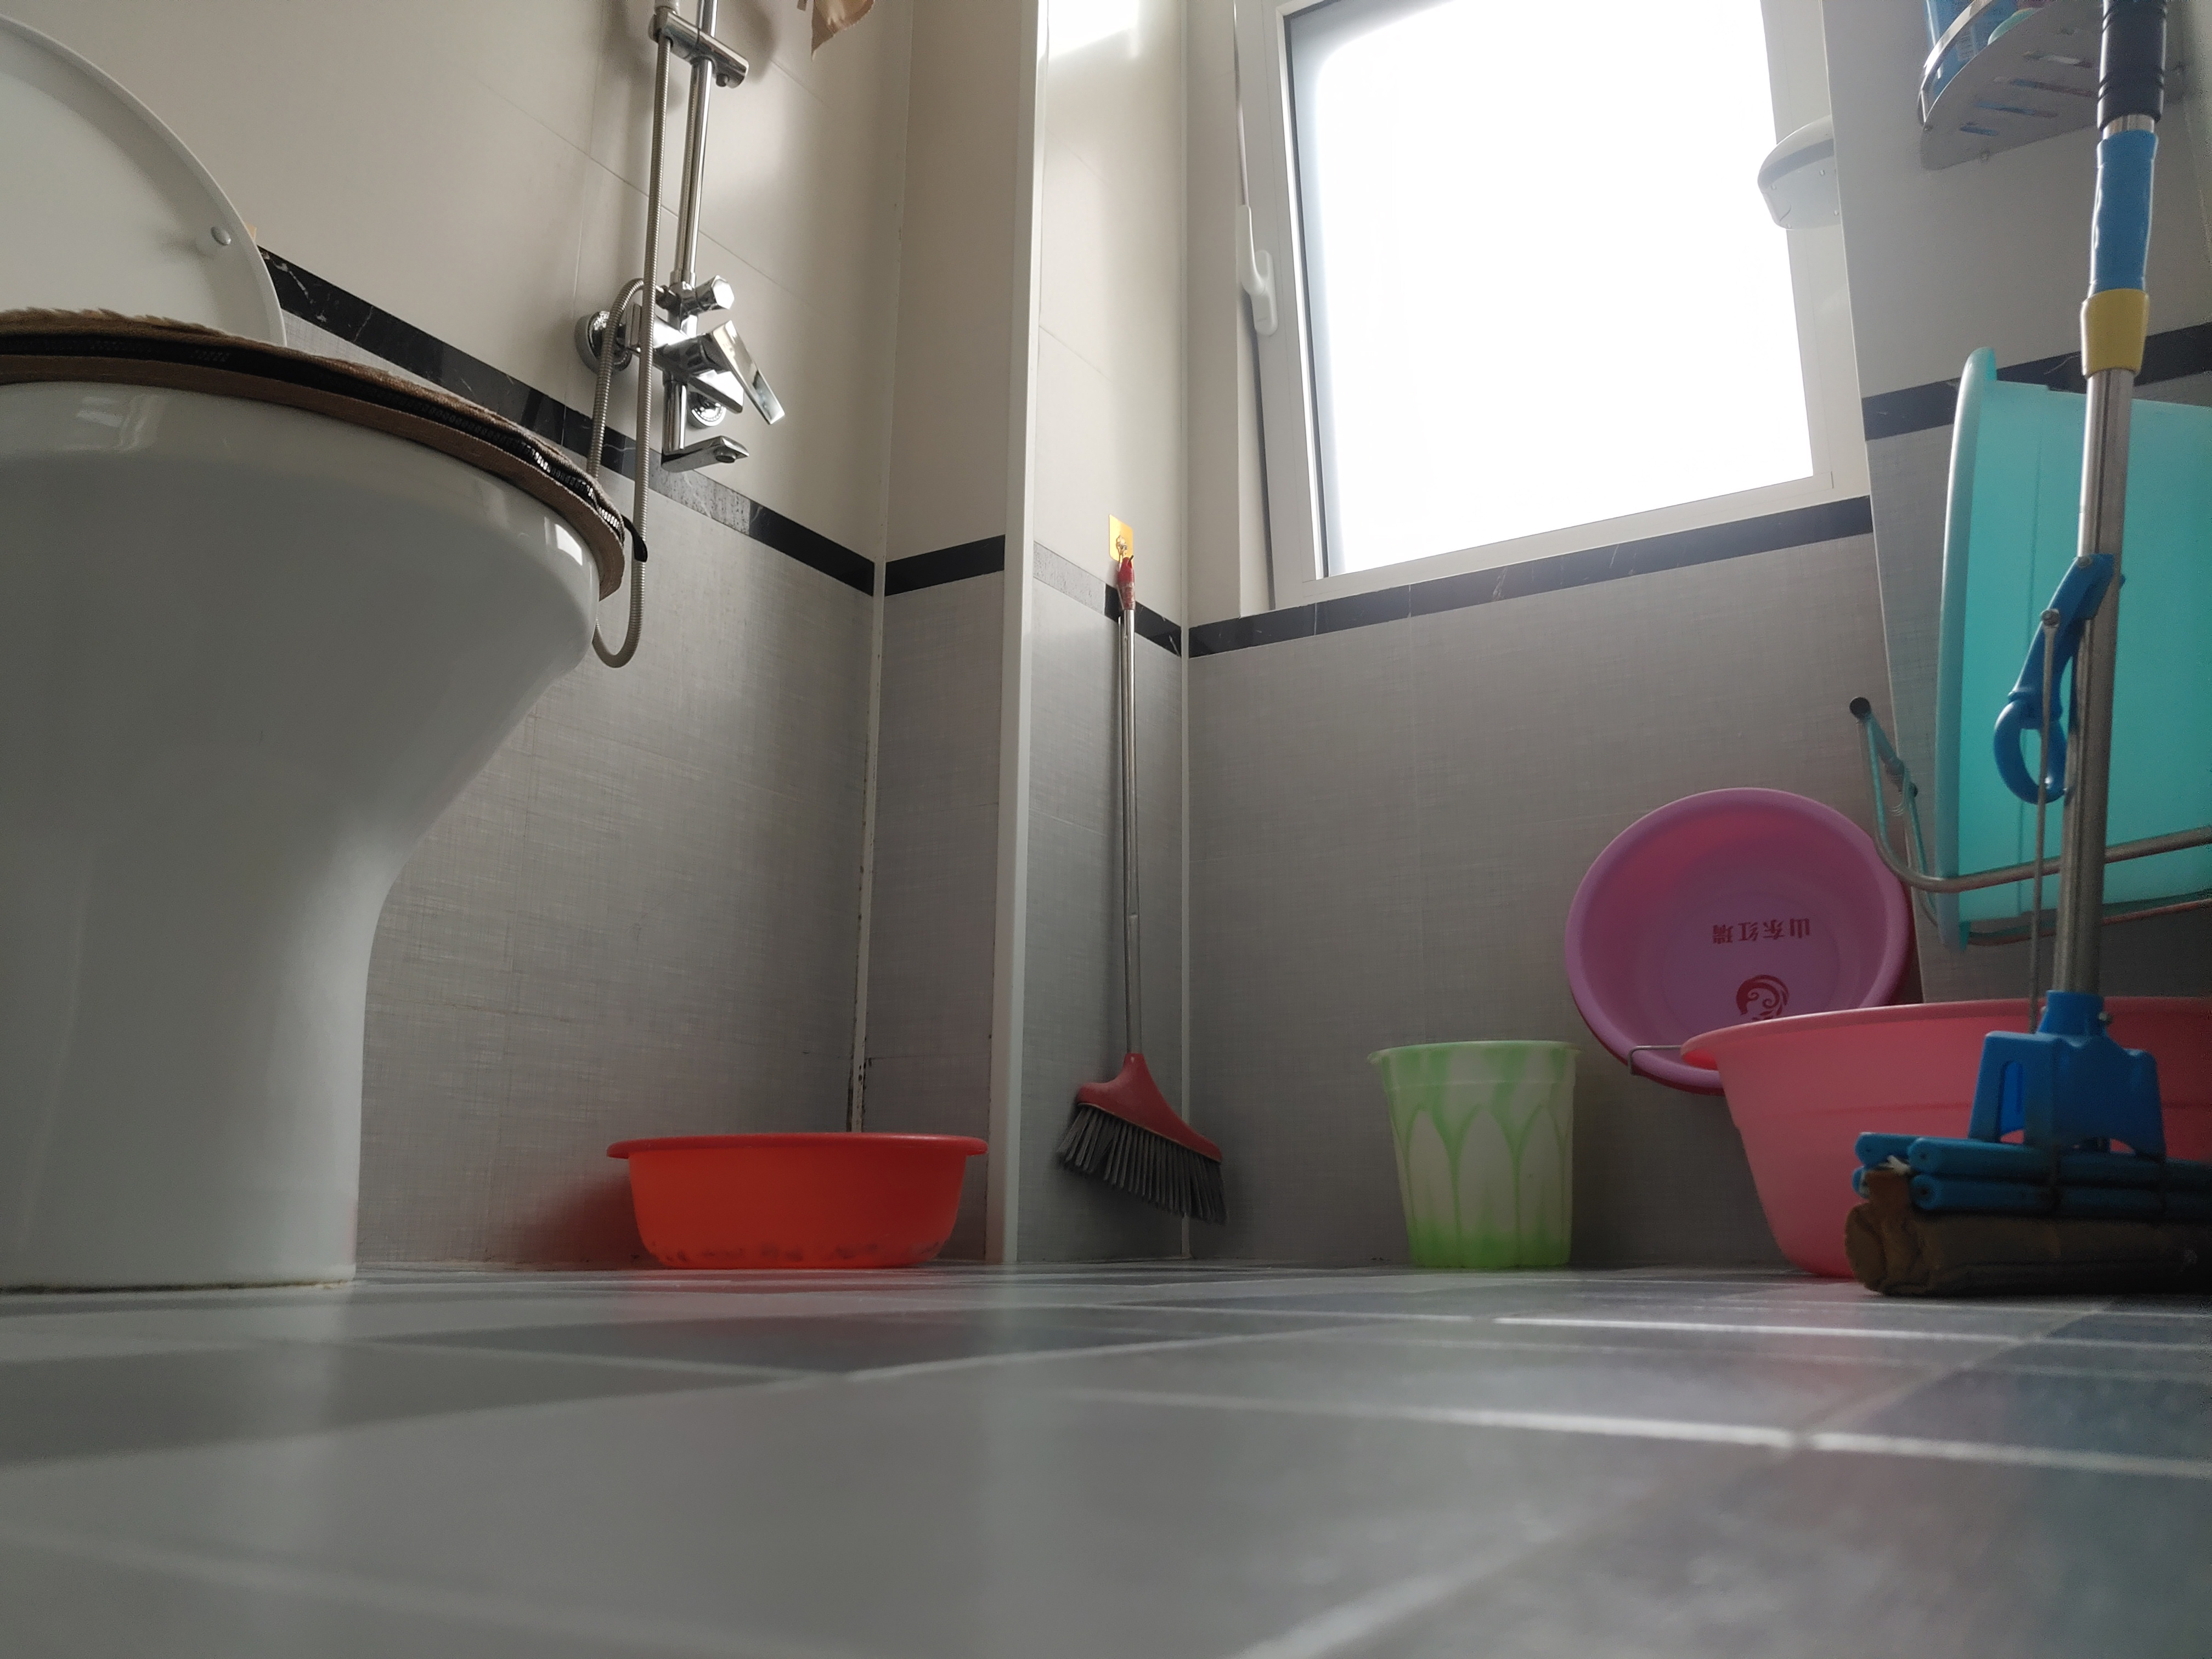closestool: (0, 14, 639, 1304)
trashcan: (1360, 1028, 1588, 1274)
